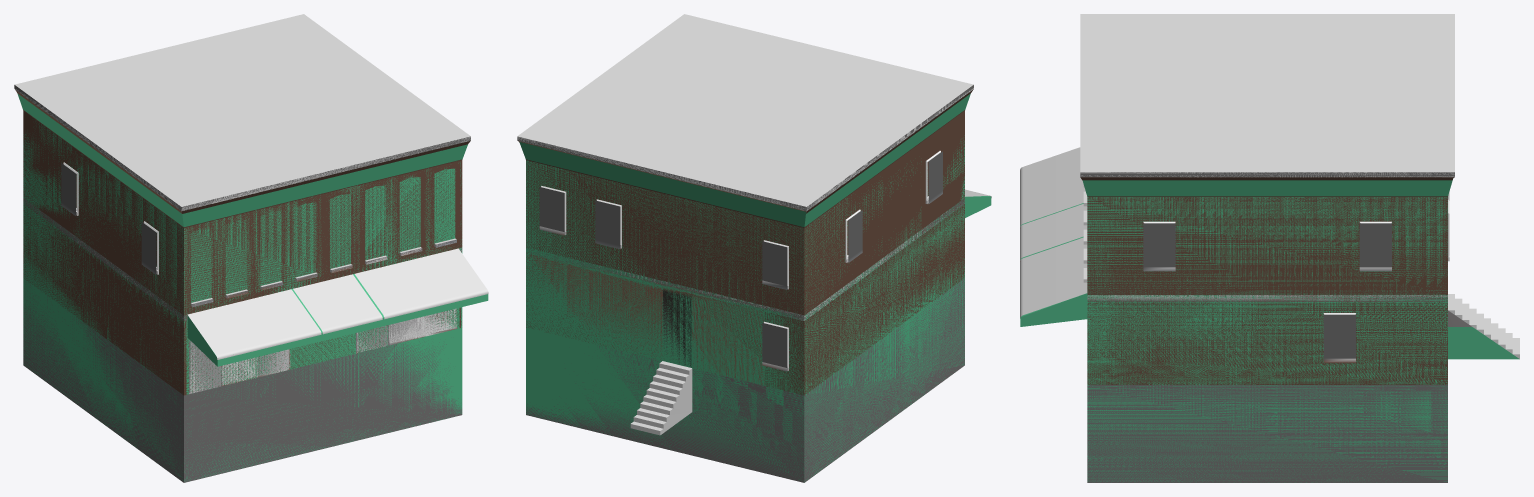
File: eca_bld_shop_town_e.dae
The picture shows the model from 3 angles, left to right: view 1: azimuth 30°, elevation 25°; view 2: azimuth 150°, elevation 25°; view 3: azimuth 270°, elevation 25°; orthographic projection. The views are drawn at different scales.
Visible parts, largest first — view 1: ind_bld_a400, ind_bld_a100, Colmesh-1, ind_bld_a60; view 2: ind_bld_a100, Colmesh-1, ind_bld_a400, ind_bld_a60; view 3: ind_bld_a100, Colmesh-1, ind_bld_a400, ind_bld_a60.
Boxes of the visible parts, x1=… form: ind_bld_a400: x1=14, y1=14, x2=488, y2=394; ind_bld_a100: x1=14, y1=85, x2=470, y2=482; Colmesh-1: x1=17, y1=93, x2=488, y2=481; ind_bld_a60: x1=23, y1=126, x2=461, y2=394; ind_bld_a100: x1=517, y1=85, x2=991, y2=482; Colmesh-1: x1=519, y1=93, x2=991, y2=481; ind_bld_a400: x1=517, y1=14, x2=991, y2=435; ind_bld_a60: x1=526, y1=135, x2=964, y2=393; ind_bld_a100: x1=1021, y1=172, x2=1471, y2=482; Colmesh-1: x1=1020, y1=180, x2=1519, y2=482; ind_bld_a400: x1=1020, y1=14, x2=1519, y2=384; ind_bld_a60: x1=1087, y1=197, x2=1447, y2=384.
Size of the model in its own units: 10.4 by 13.87 by 9.6.
